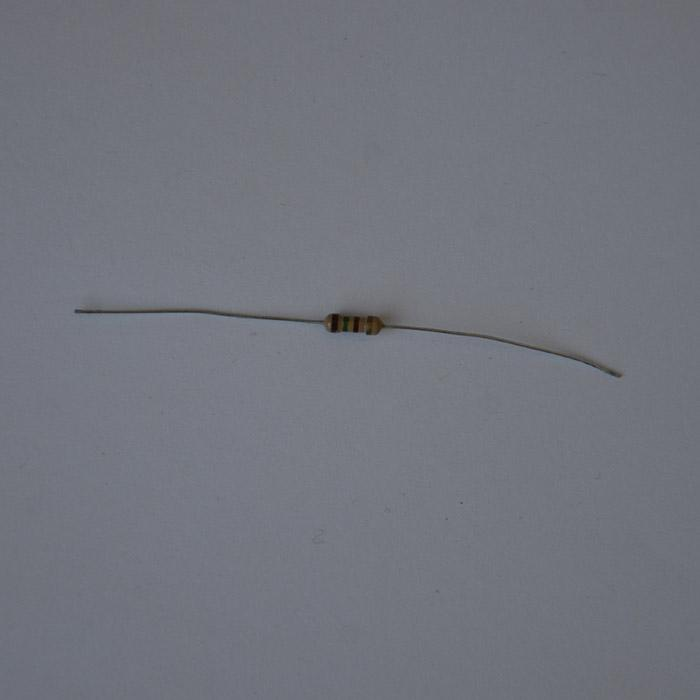resistor: (324, 313, 381, 335)
